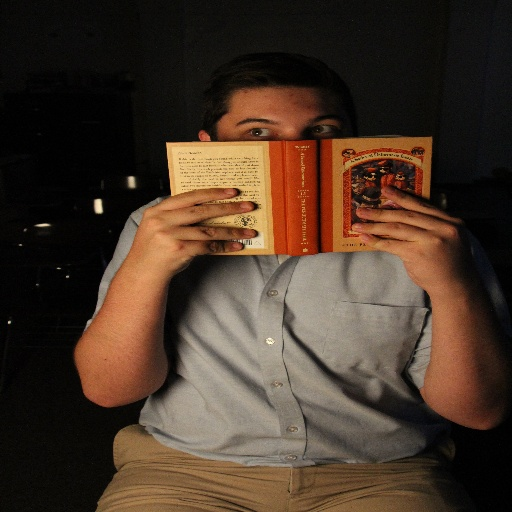hand: (73, 168, 246, 398), (350, 184, 491, 293)
